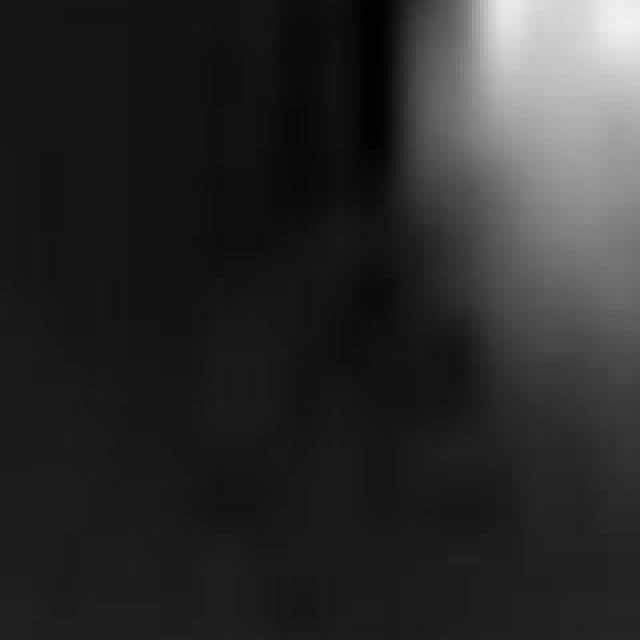person: (389, 1, 640, 385)
